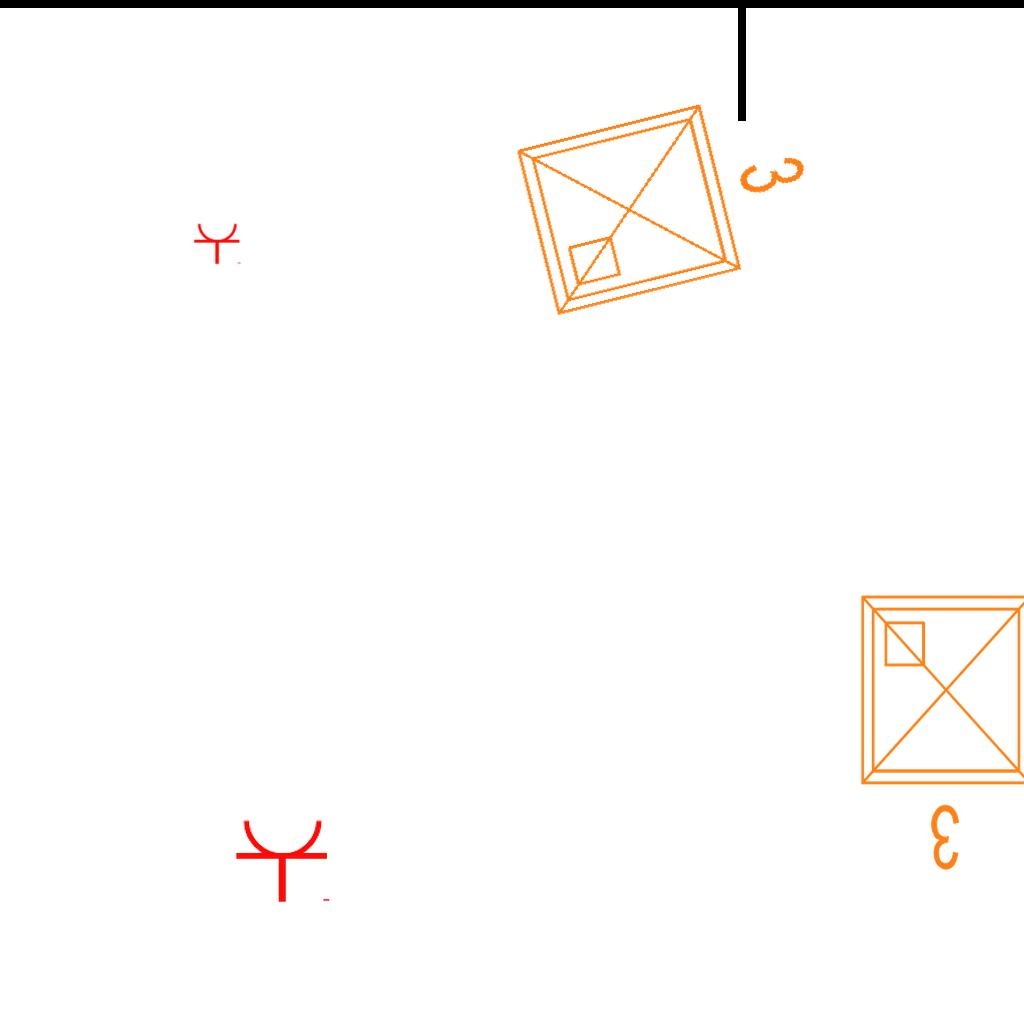Einbaudownlights_LED_Konferenzraeume: (497, 58, 839, 334), (846, 581, 1024, 881)
Schukosteckdose_einfach: (234, 817, 334, 904), (193, 222, 243, 265)
